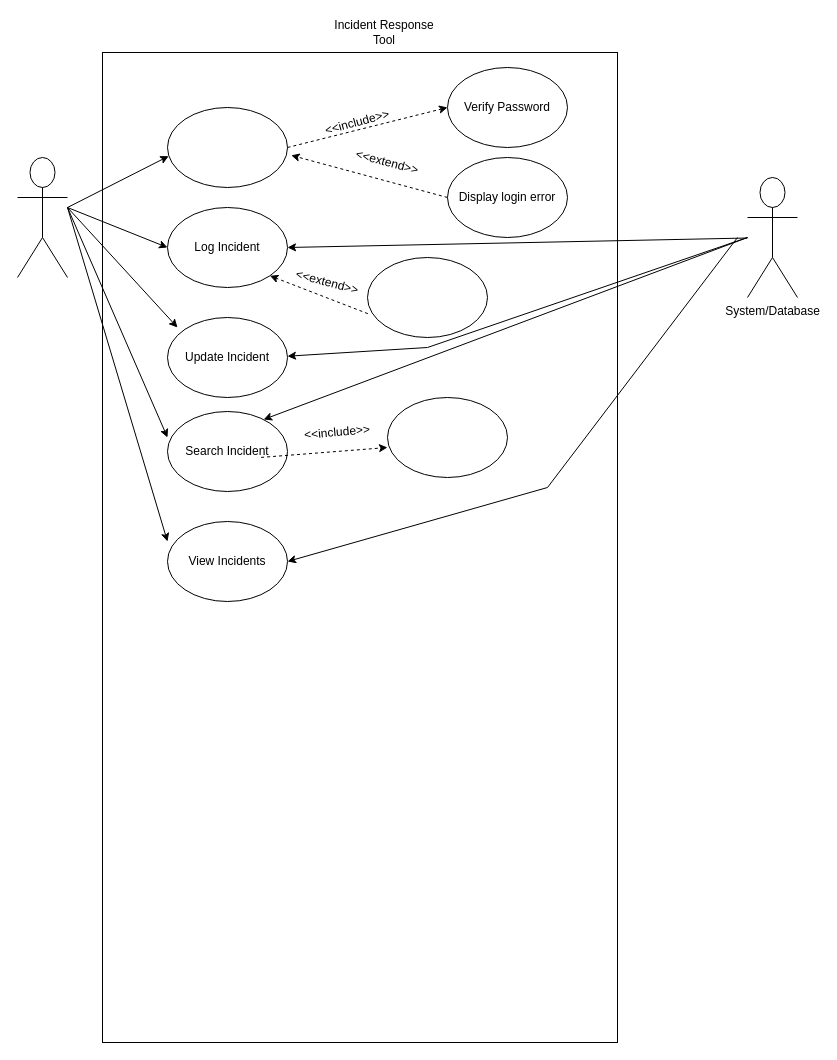
Image size: 837x1060. Some labels were removed from this diagram. Here are the shapes that lost their labels. From the top down, the centre of each, then its label:
(x=227, y=147): Log In
(x=42, y=217): User
(x=427, y=297): Generate Sigma rule
(x=447, y=437): Filter incidents by type, user affected, etc
